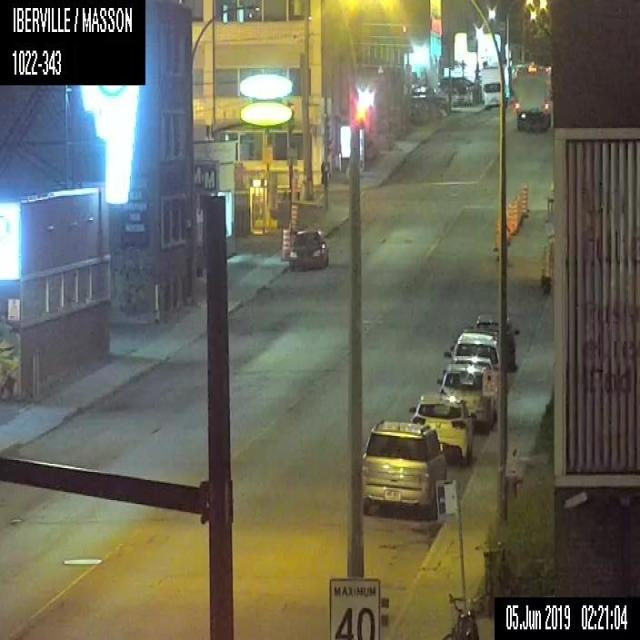construction: (541, 244, 553, 292), (280, 225, 289, 262), (289, 172, 299, 205), (508, 198, 516, 236), (289, 201, 298, 233), (492, 213, 499, 251), (520, 183, 528, 213)
vehicle: (360, 418, 445, 517), (408, 392, 476, 466), (436, 364, 496, 433), (467, 314, 519, 372), (514, 63, 552, 129), (442, 332, 503, 366), (287, 227, 328, 269), (481, 65, 507, 110)
